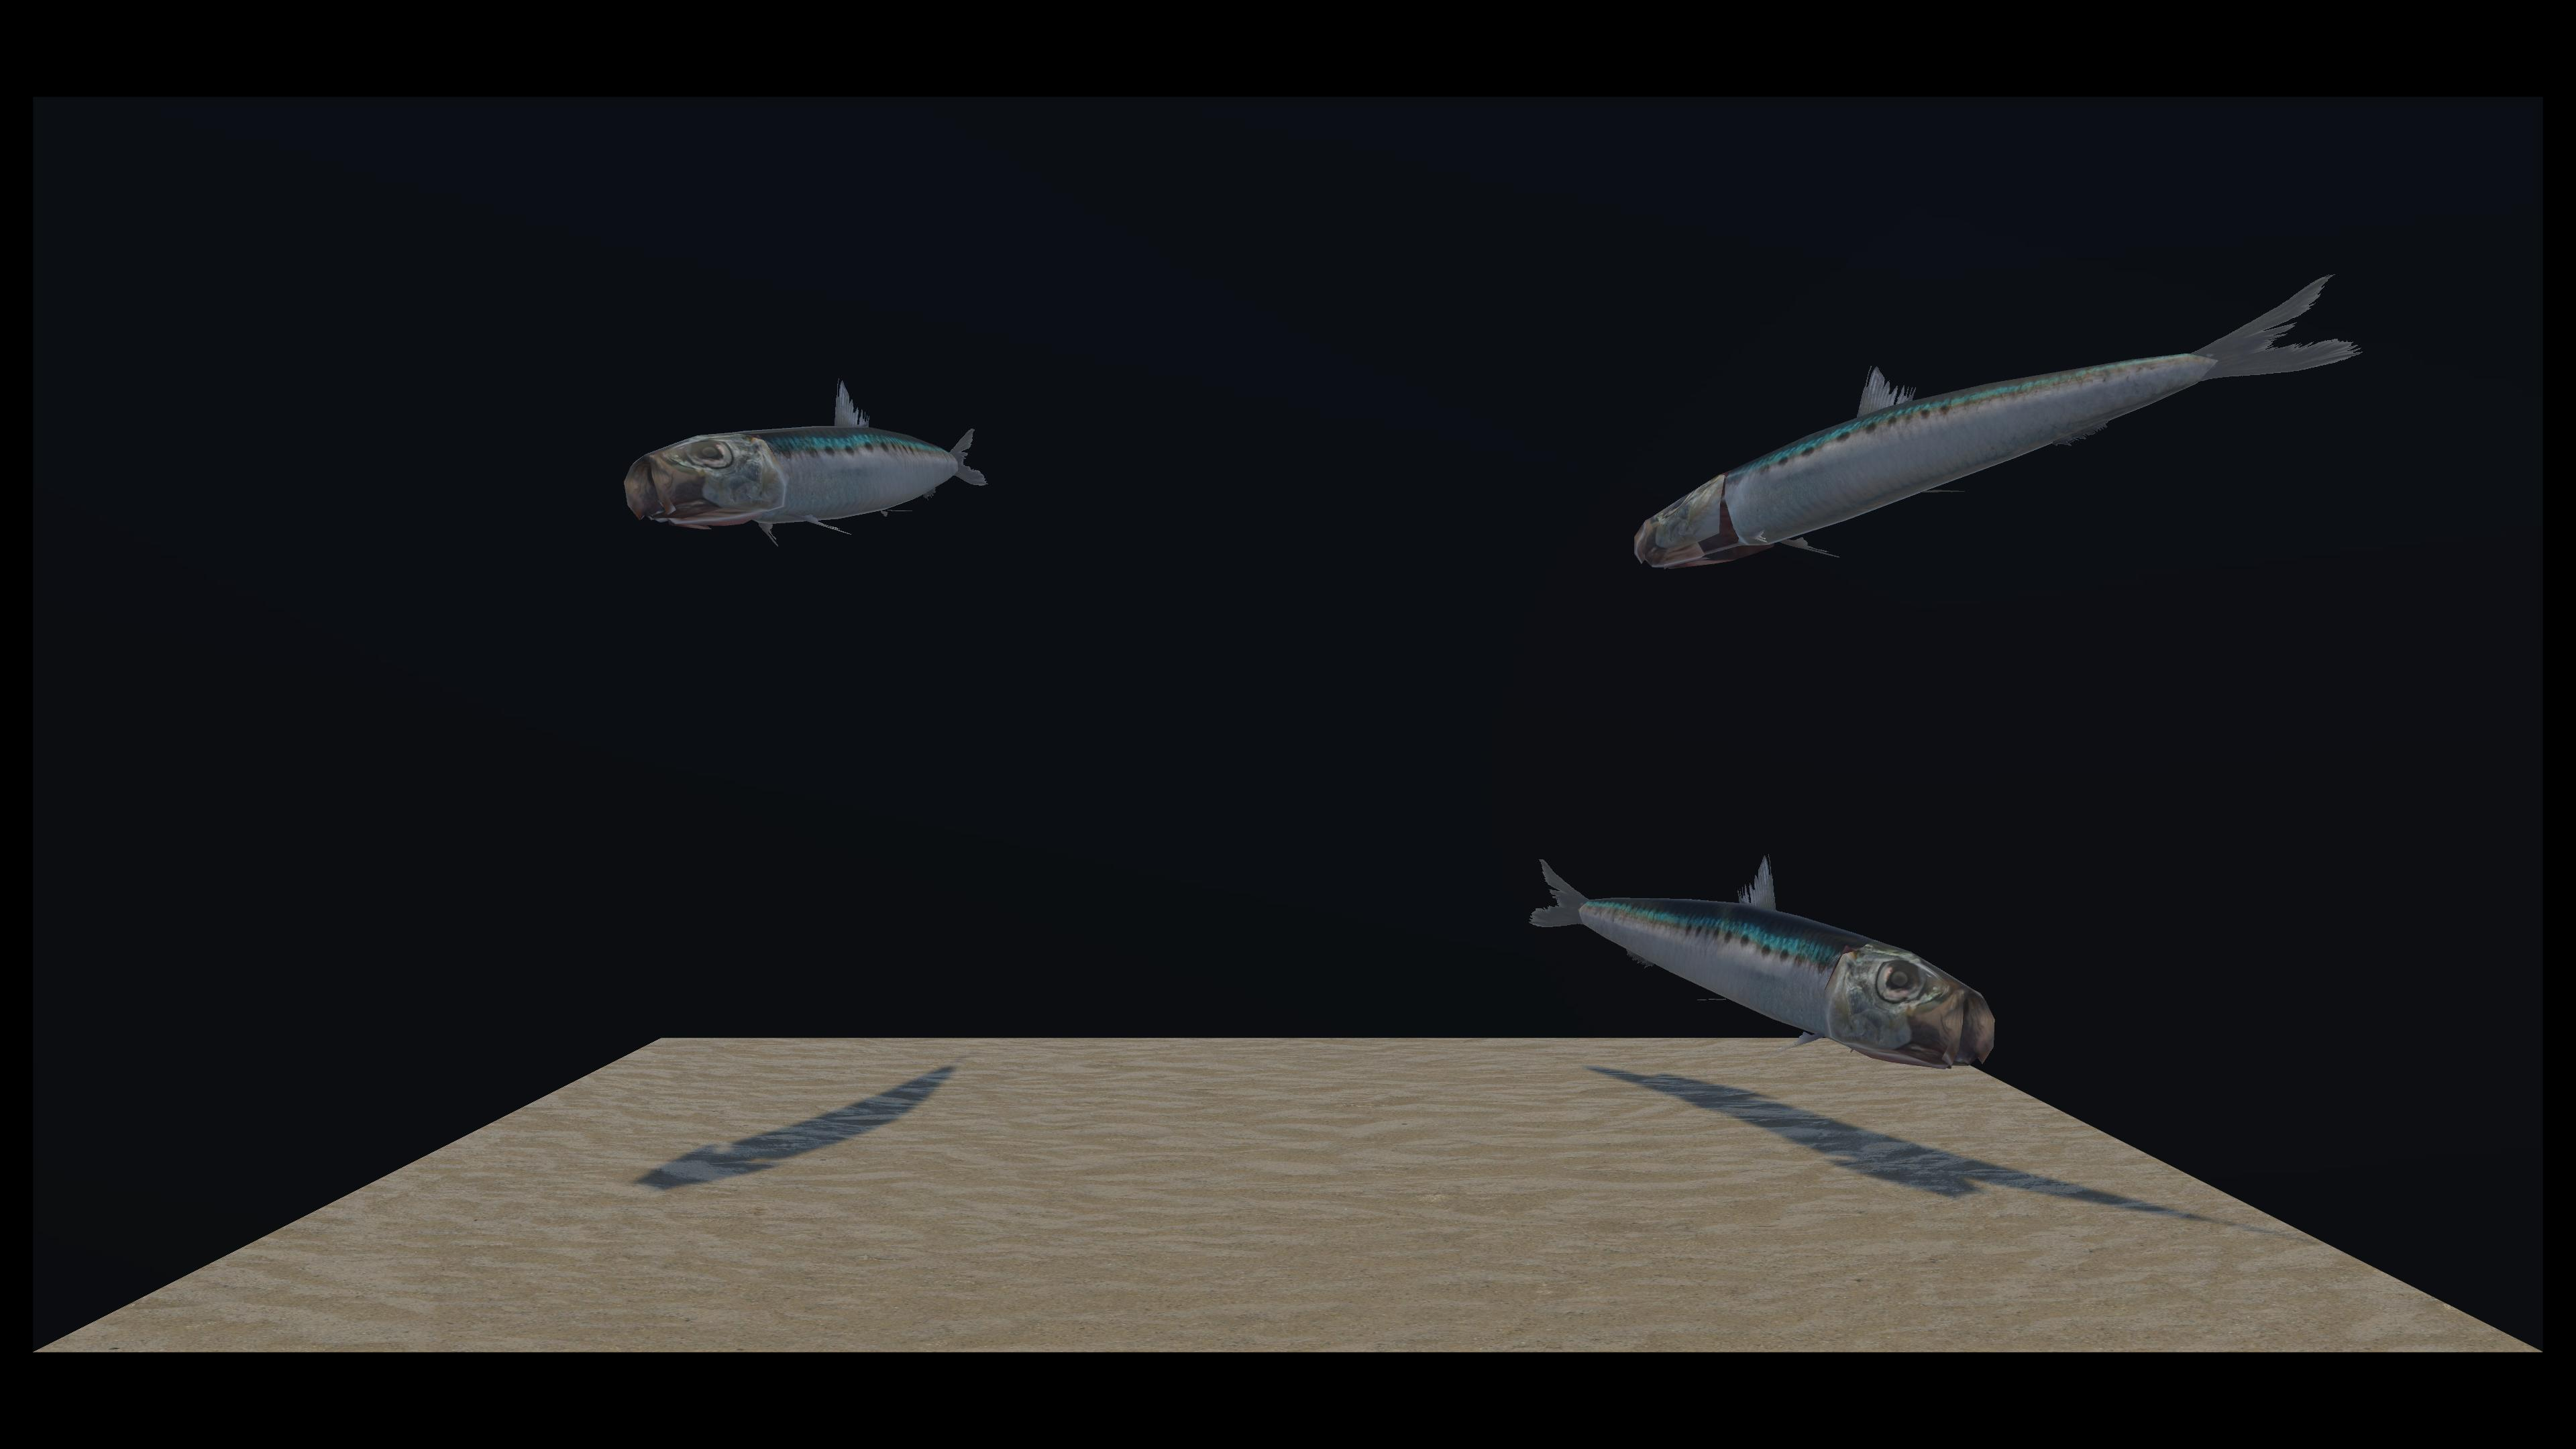Sardine_Front: (603, 345, 1966, 1062), (985, 276, 2342, 568), (648, 384, 989, 554)
